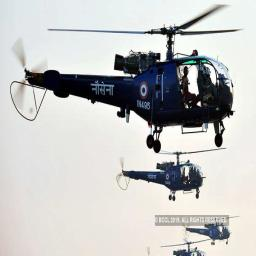helicopter: (13, 1, 236, 153), (117, 150, 228, 201), (185, 212, 234, 250), (150, 237, 208, 256)
